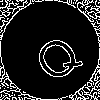Q: (25, 25, 85, 87)
